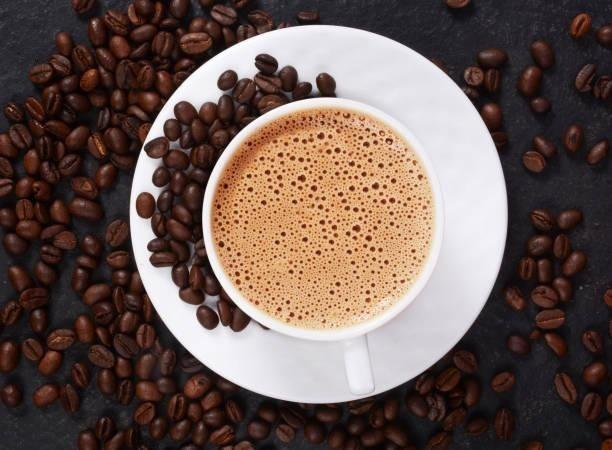cup-handle: (199, 94, 448, 399)
